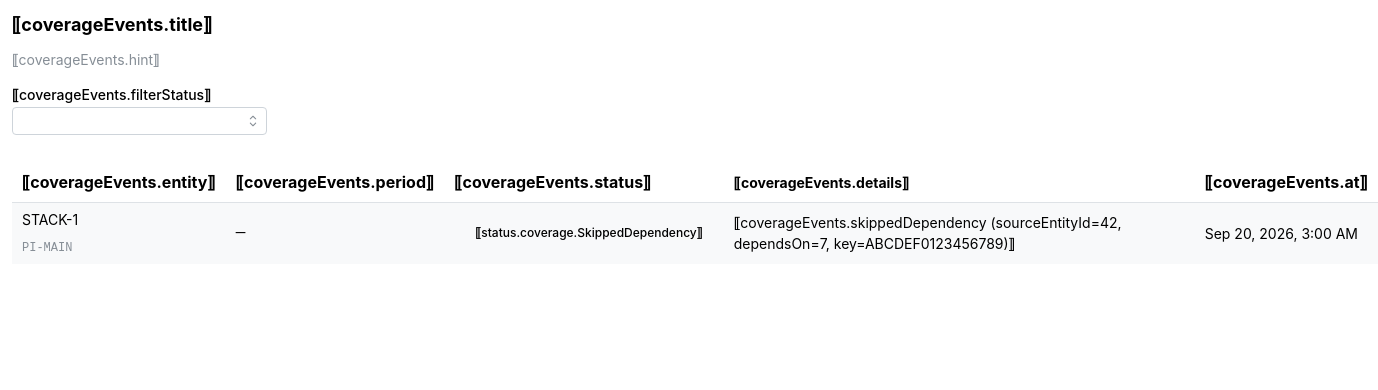
it: CoverageEventsPanel › пропуск за залежністю розкладу (ФВ-13.15) — бейдж `info`, причина конвертом через каталог, є у фільтрі
Check: the text "STACK-1" is shown, box 22,211 -> 78,228
Check: the text "⟦coverageEvents.skippedDependency (sourceEntityId=42, dependsOn=7, key=ABCDEF0123456789)⟧" is shown, box 734,214 -> 1126,252
Click the field labelled "⟦coverageEvents.filterStatus⟧" at (140, 121), box 12,107 -> 267,135
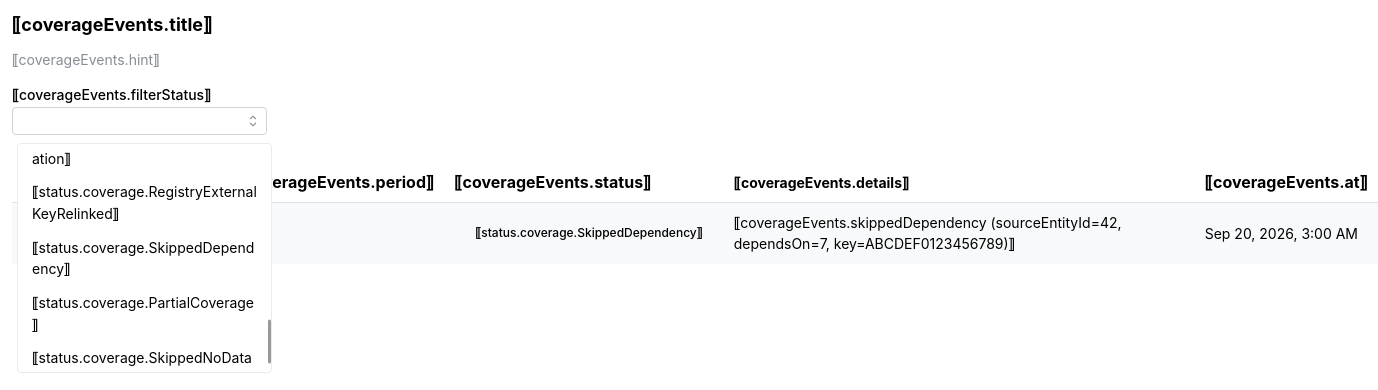
Check: the option "⟦status.coverage.SkippedDependency⟧" is shown, box 22,231 -> 267,286
